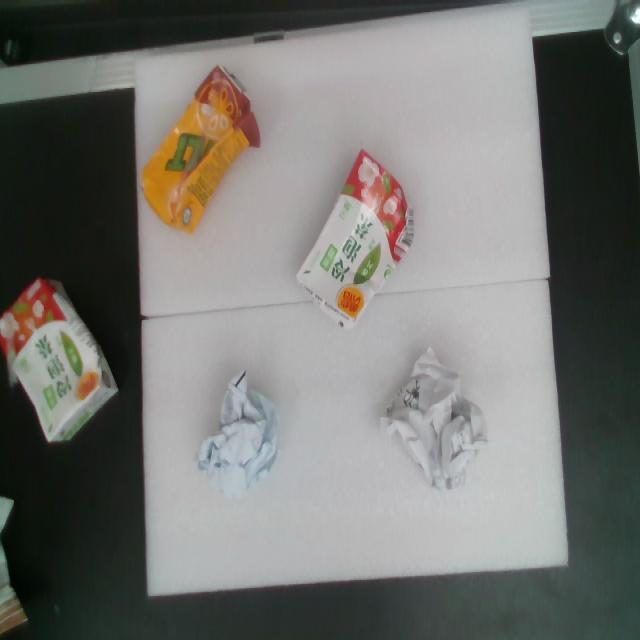juicebox: (259, 141, 455, 355), (109, 50, 293, 250)
paper: (354, 320, 527, 519), (184, 364, 285, 508)
